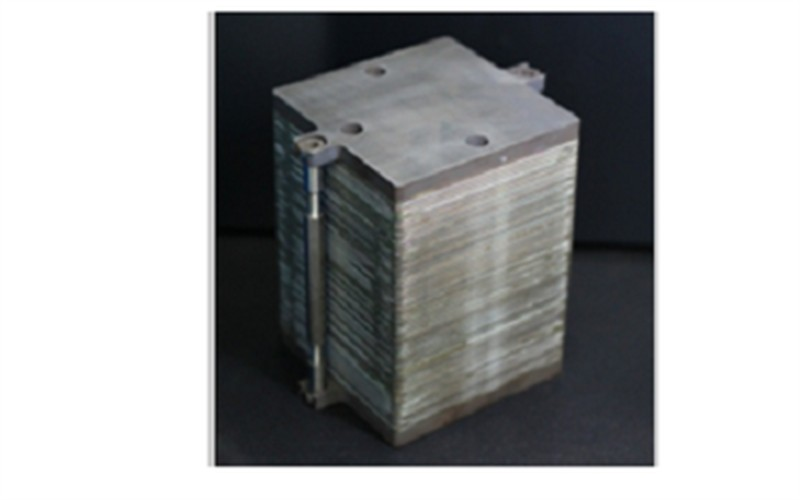Capacitor: (256, 30, 596, 449)
